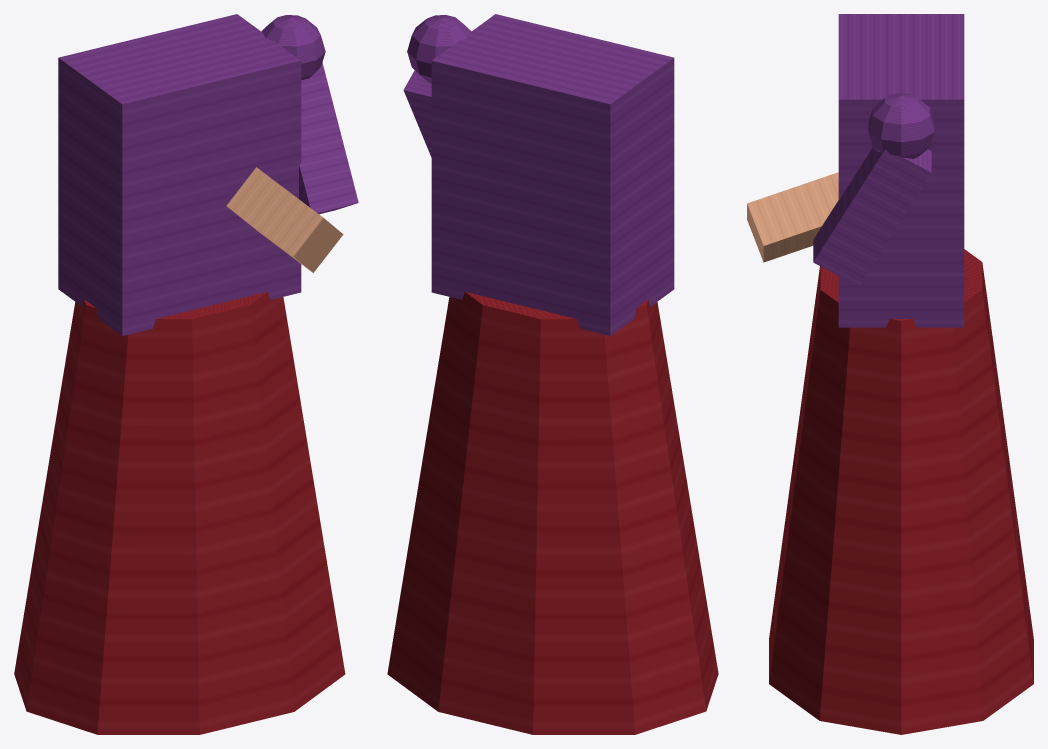
The model's file is oracion_cuerpo.obj.
3 views of the same model, side by side, from view 1: azimuth 30°, elevation 25°; view 2: azimuth 150°, elevation 25°; view 3: azimuth 270°, elevation 25° (orthographic).
Visible parts, largest first — view 1: oracion_cuerpo; view 2: oracion_cuerpo; view 3: oracion_cuerpo.
Part boxes in pixels (bbox=[...]): oracion_cuerpo: bbox=[14, 14, 358, 734]; oracion_cuerpo: bbox=[387, 14, 718, 734]; oracion_cuerpo: bbox=[747, 14, 1033, 734].
Size of the model in its own units: 0.36 by 0.706 by 0.2966.
Materials: 1 (1 with a texture image).
